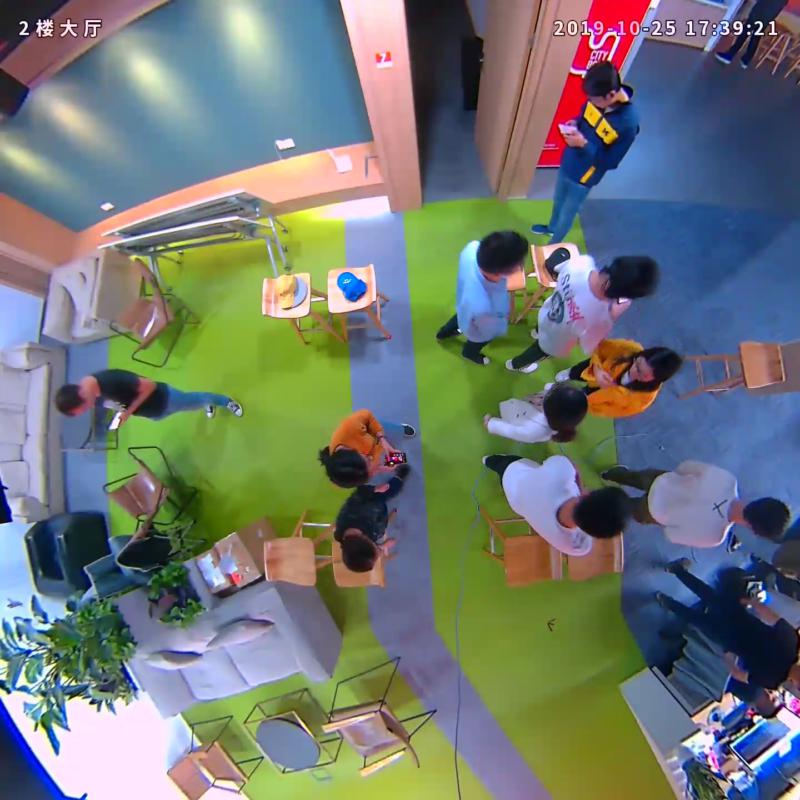head: (570, 485, 632, 540), (602, 255, 659, 300), (476, 229, 528, 278), (542, 382, 589, 432), (741, 495, 792, 541), (323, 446, 372, 489), (629, 347, 683, 385), (581, 60, 621, 109), (340, 531, 381, 572), (53, 382, 97, 416)
